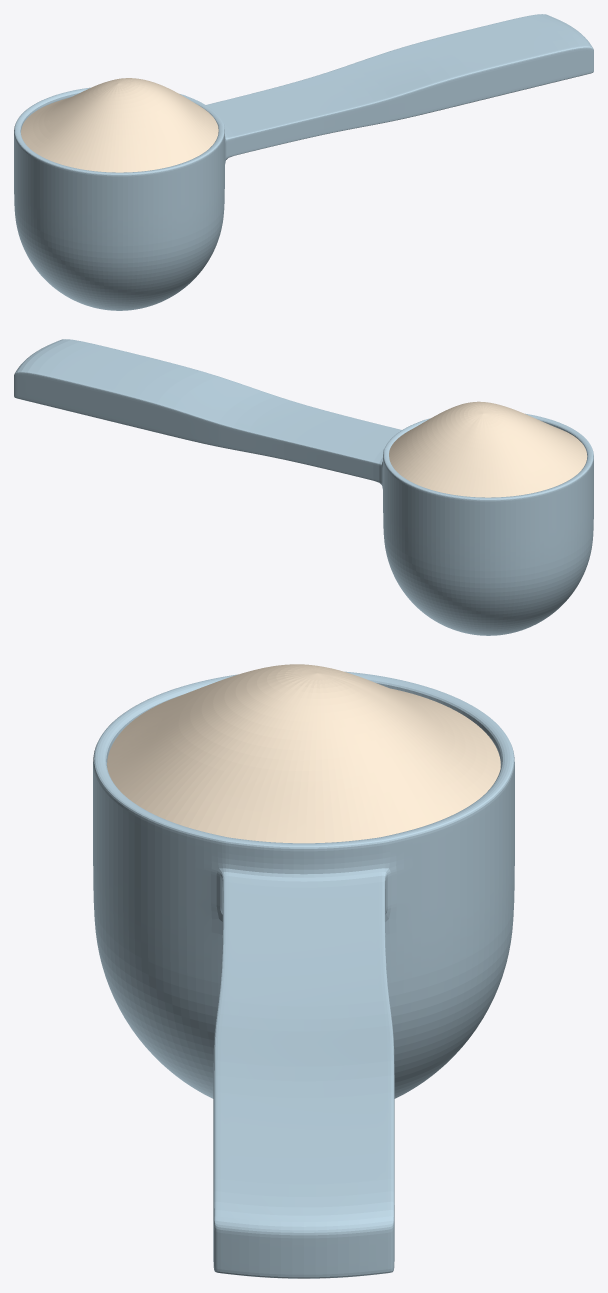
Rendered from spoon_filled_combined.fbx.
The picture shows the model from 3 angles, top to bottom: view 1: azimuth 30°, elevation 25°; view 2: azimuth 150°, elevation 25°; view 3: azimuth 270°, elevation 25°; orthographic projection. The views are drawn at different scales.
Parts seen in each view (by area): view 1: Sphere.001; view 2: Sphere.001; view 3: Sphere.001.
Part boxes in pixels (x1,y1,x2,y2): Sphere.001: [14, 14, 593, 310]; Sphere.001: [14, 339, 593, 635]; Sphere.001: [93, 664, 514, 1278].
Size of the model in its own units: 59.87 by 22.39 by 19.87.
